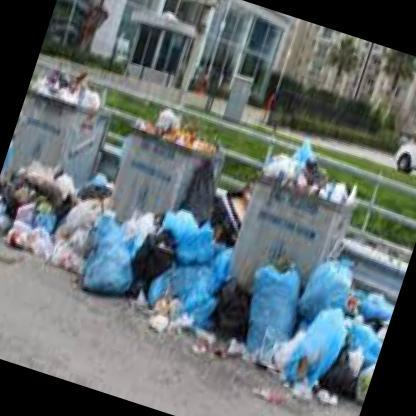Garbage: (320, 285, 397, 415), (230, 258, 308, 380), (262, 132, 365, 206), (70, 211, 148, 306), (279, 309, 348, 414), (152, 260, 235, 340), (0, 203, 79, 282), (134, 87, 224, 156), (300, 250, 368, 317), (14, 150, 82, 213), (35, 57, 110, 110), (178, 158, 228, 235), (172, 210, 224, 265), (295, 156, 339, 198), (266, 147, 305, 194), (155, 103, 188, 138), (293, 132, 322, 170), (44, 74, 68, 100), (74, 83, 94, 106)
